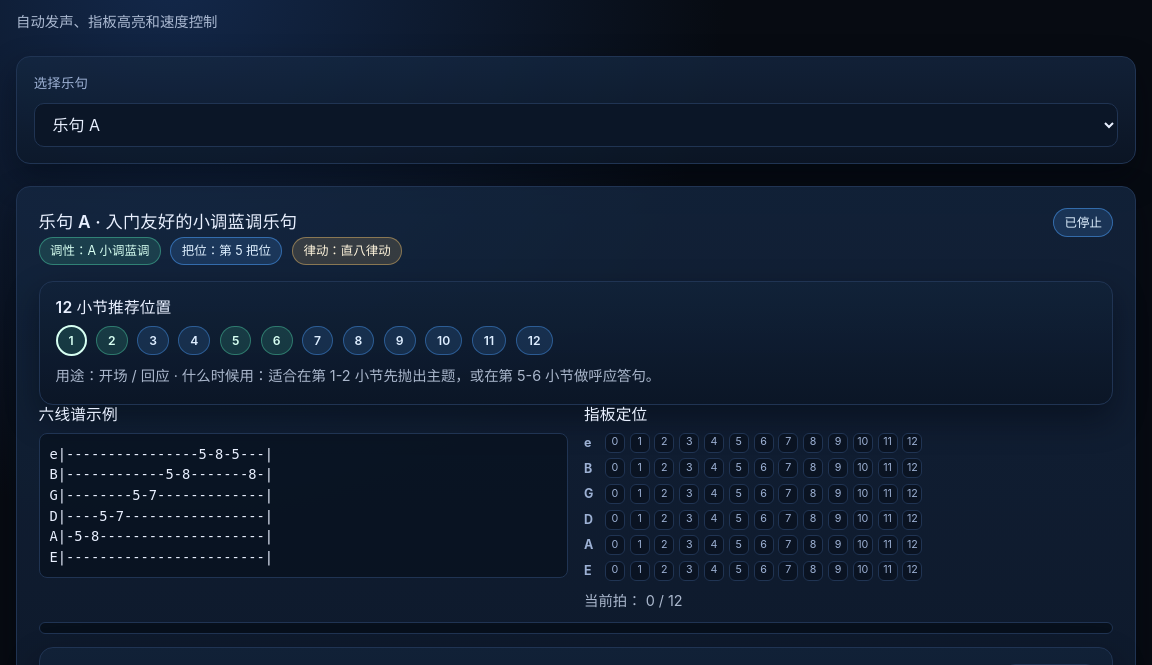
Test case: LicksDemoSection › uses selector and only shows selected lick details
Check: the text "做滑音时保持按压力度稳定，并准确落在拍点上。" is not shown
Select "乐句 B" in the dropdown labelled "选择乐句" at [576, 125], box [34,103,1118,147]
(page scrolled)
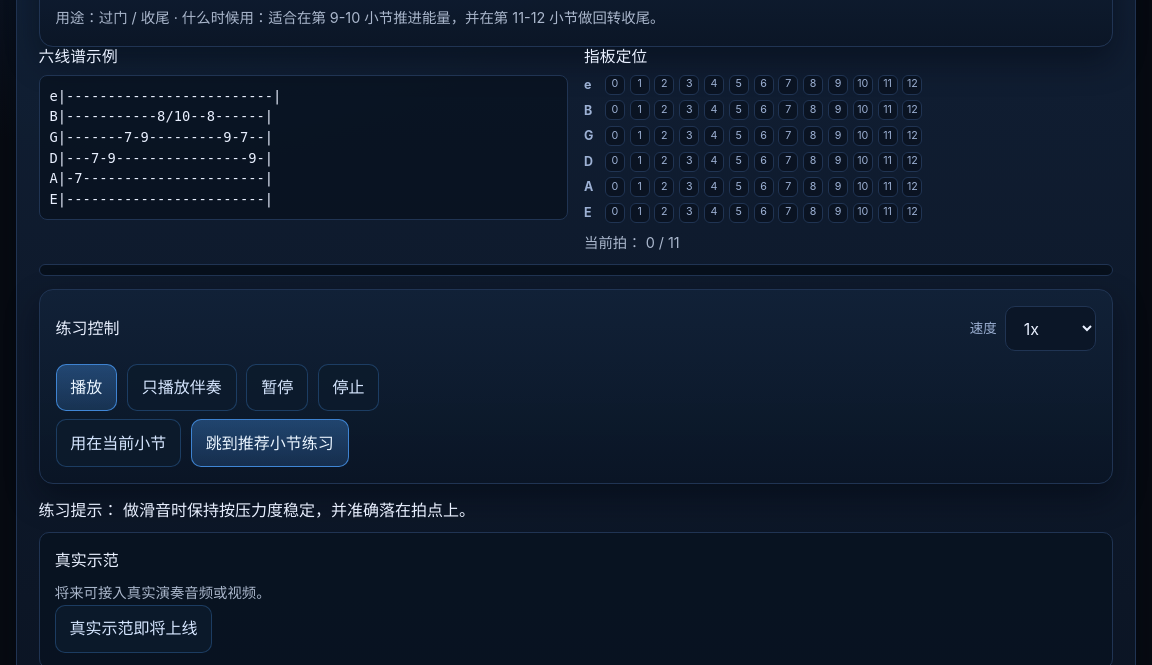
Check: the text "做滑音时保持按压力度稳定，并准确落在拍点上。" is shown, box [123,500,475,520]
